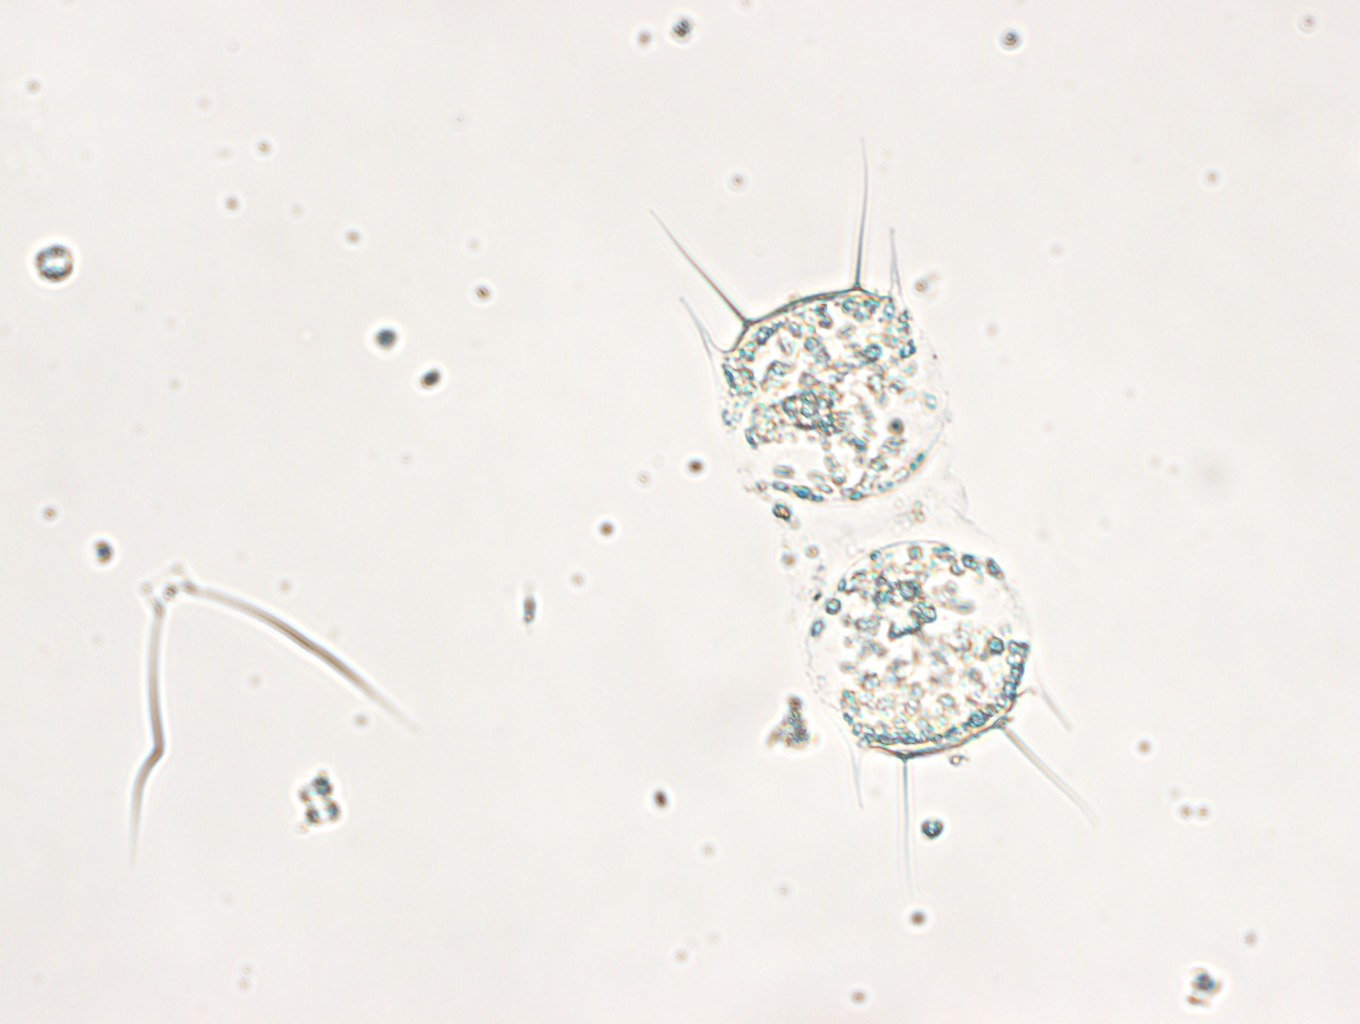biddulphia: (649, 137, 1092, 888)
